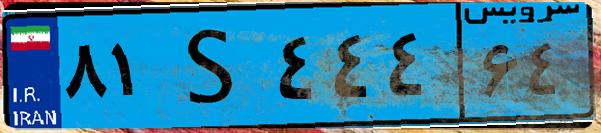1: (110, 28, 158, 98)
4: (270, 28, 330, 110), (385, 28, 445, 110), (330, 28, 385, 110), (525, 38, 570, 115)
6: (475, 38, 525, 113)
8: (57, 26, 110, 100)
S: (158, 12, 270, 120)
